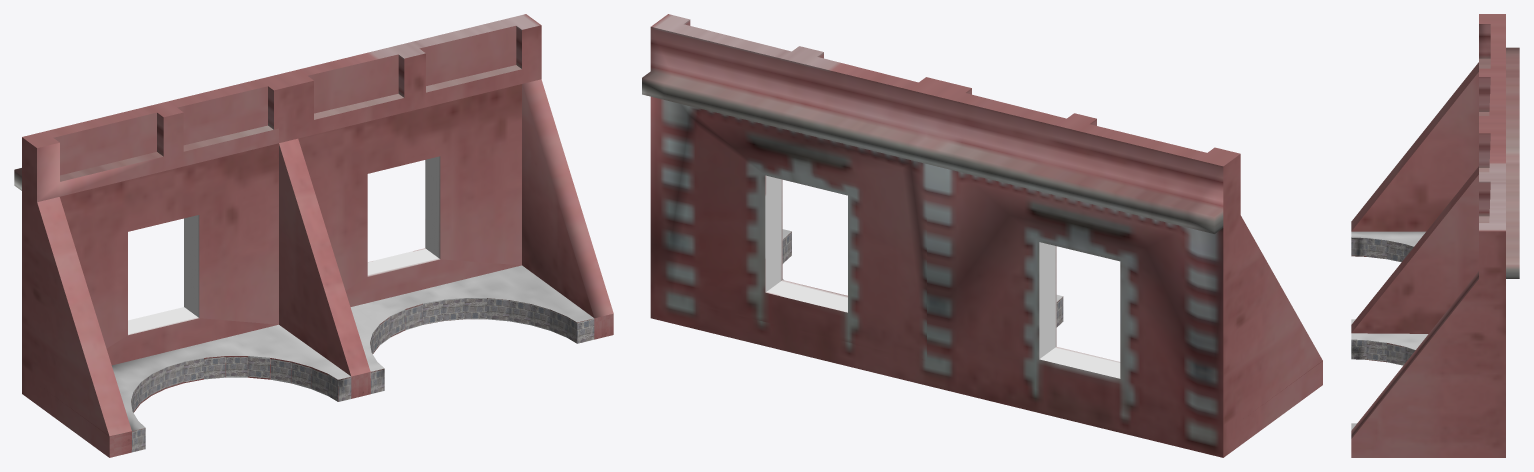
Rendered from Garitas_Achaval.fbx.
3 views of the same model, side by side, from view 1: azimuth 30°, elevation 25°; view 2: azimuth 150°, elevation 25°; view 3: azimuth 270°, elevation 25° (orthographic). The views are drawn at different scales.
Parts seen in each view (by area): view 1: Plane.003; view 2: Plane.003; view 3: Plane.003.
Boxes of the visible parts, x1,y1,x2,y2 form: Plane.003: (14,14,613,457); Plane.003: (642,14,1322,457); Plane.003: (1351,14,1519,457).
Size of the model in its own units: 20.97 by 10.2 by 6.87.
